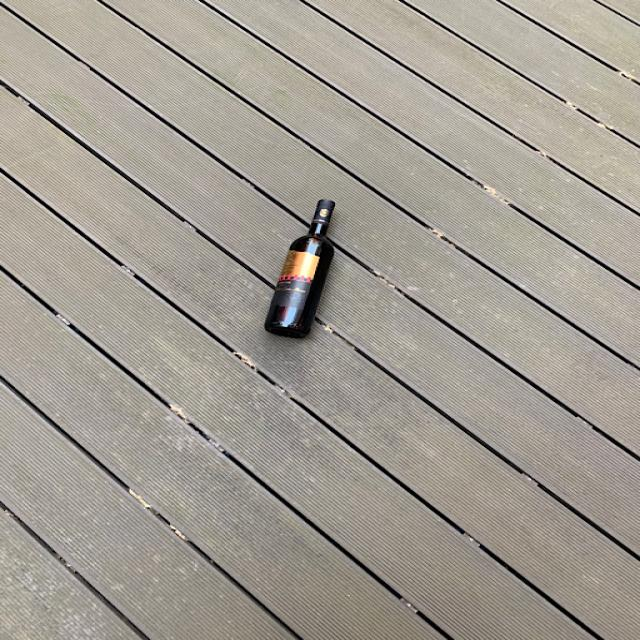litter: (258, 195, 344, 339)
